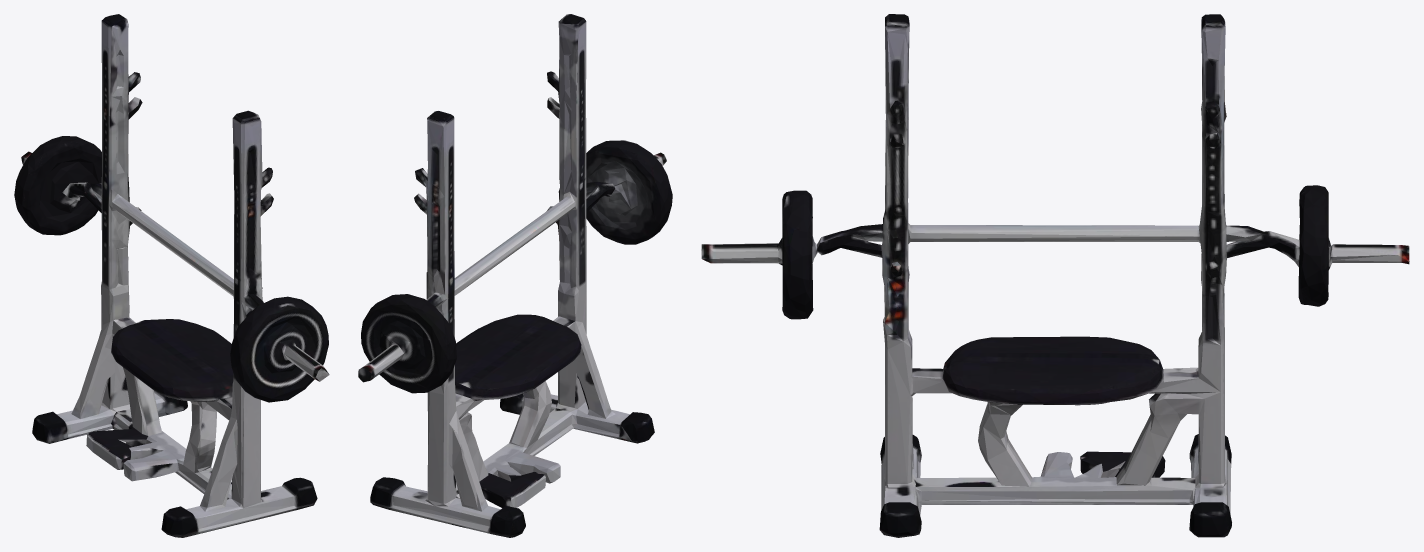
Rendered from weight_bench.glb.
3 views of the same model, side by side, from view 1: azimuth 30°, elevation 25°; view 2: azimuth 150°, elevation 25°; view 3: azimuth 270°, elevation 25° (orthographic). The views are drawn at different scales.
Visible parts, largest first — view 1: textured_mesh.obj; view 2: textured_mesh.obj; view 3: textured_mesh.obj.
Boxes of the visible parts, x1,y1,x2,y2 form: textured_mesh.obj: [14, 14, 329, 537]; textured_mesh.obj: [358, 14, 672, 537]; textured_mesh.obj: [701, 14, 1409, 537].
Bounding box in the file's own units: 0.5051 × 1.3 × 1.73.
1 material, 1 textured.
